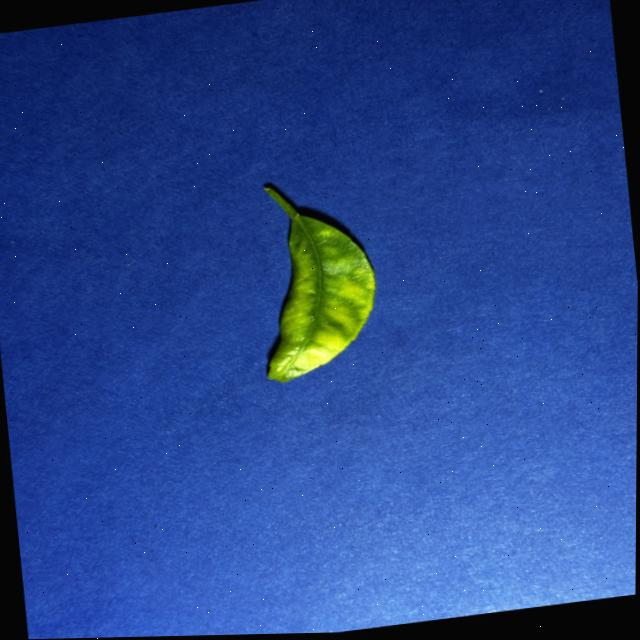greening: (264, 184, 374, 380)
